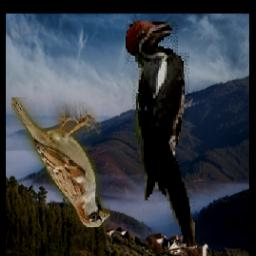Sparrow: (11, 97, 110, 227)
Woodpecker: (125, 20, 194, 248)
